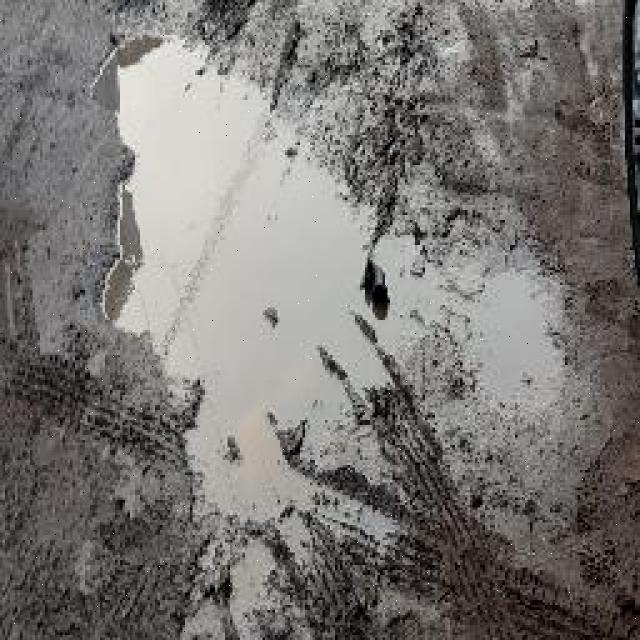waterlogging: (87, 4, 406, 581)
